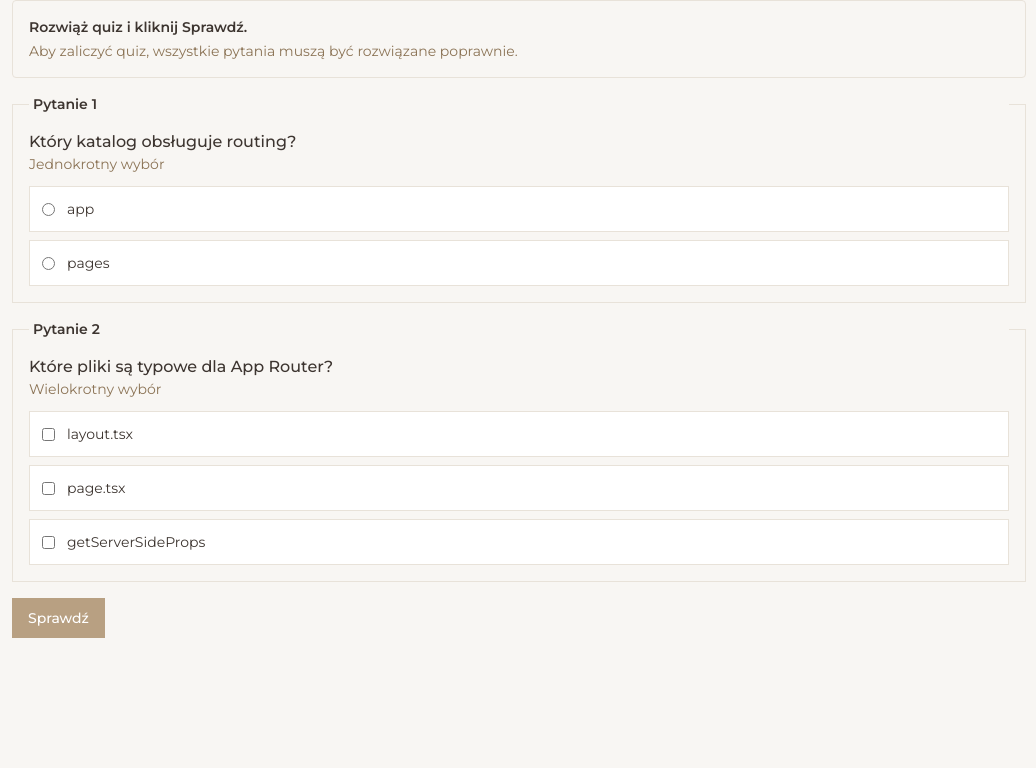
Test: QuizSection › marks quiz as passed after a correct attempt
Click the radio button labelled "app" at x=48, y=209, box left=42, top=202, right=55, bottom=216
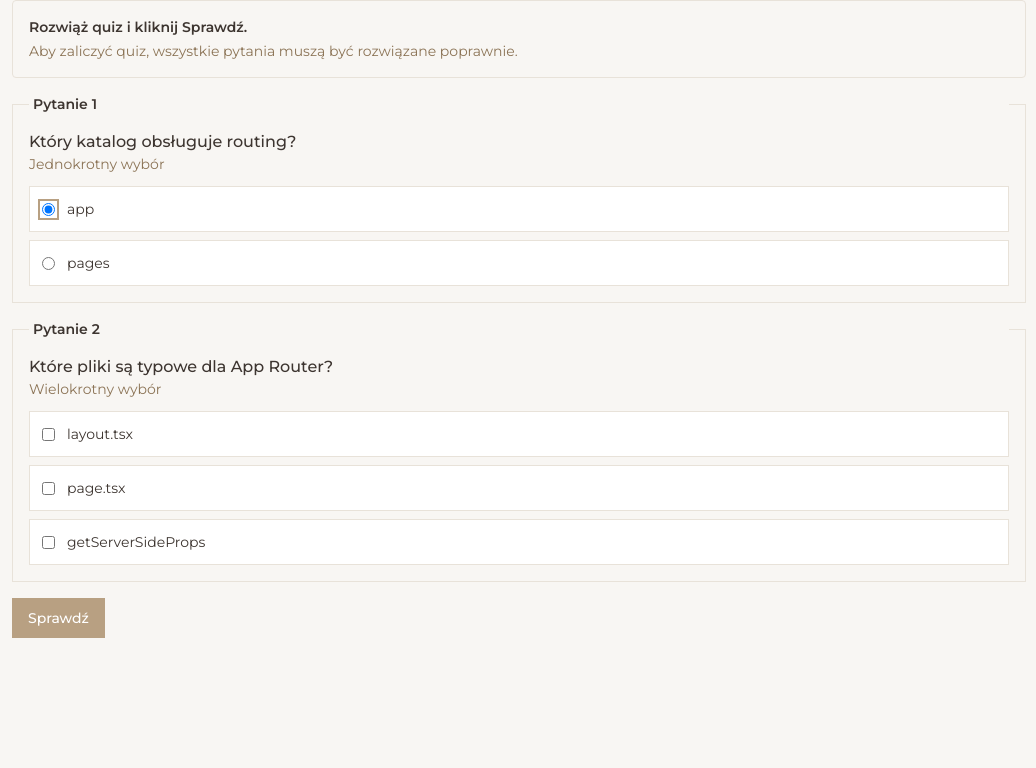
Click the checkbox labelled "layout.tsx" at x=48, y=434, box left=42, top=428, right=55, bottom=440
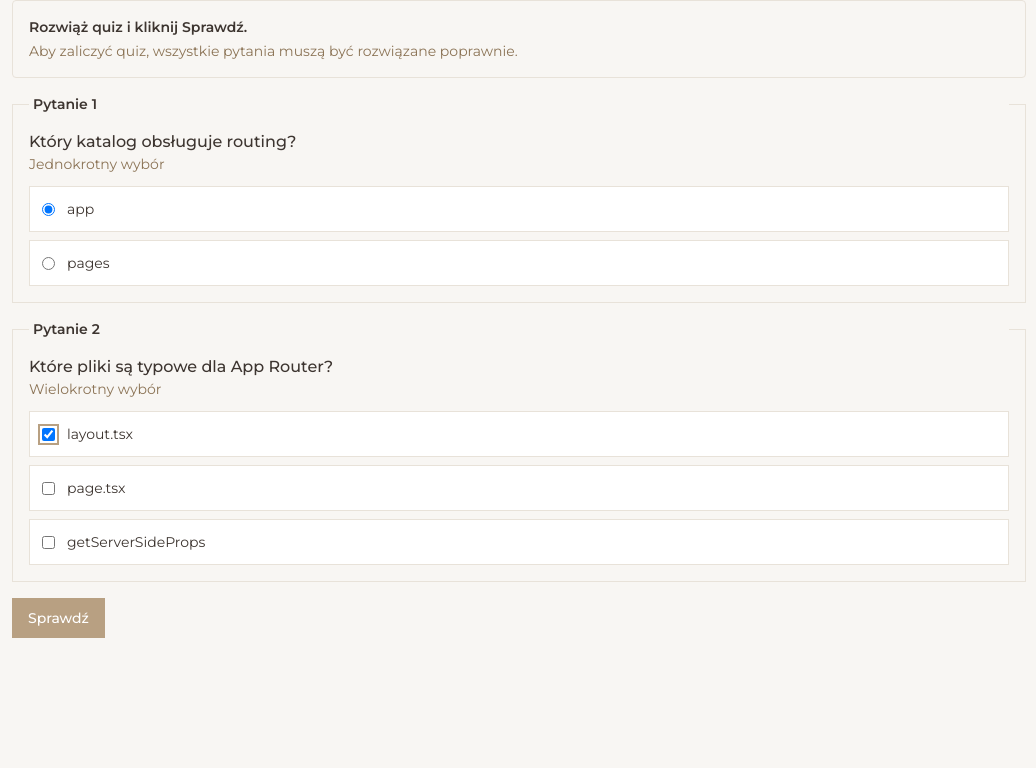
Click the checkbox labelled "page.tsx" at x=48, y=488, box left=42, top=482, right=55, bottom=494
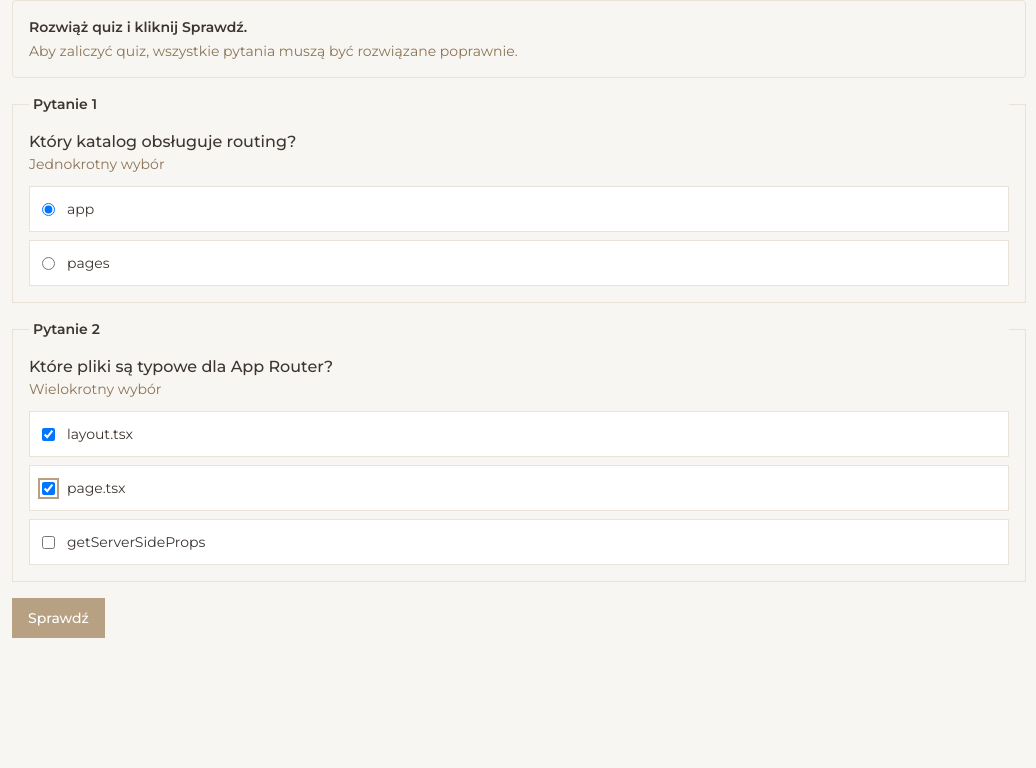
Click the button "Sprawdź" at x=58, y=618, box left=12, top=598, right=105, bottom=638
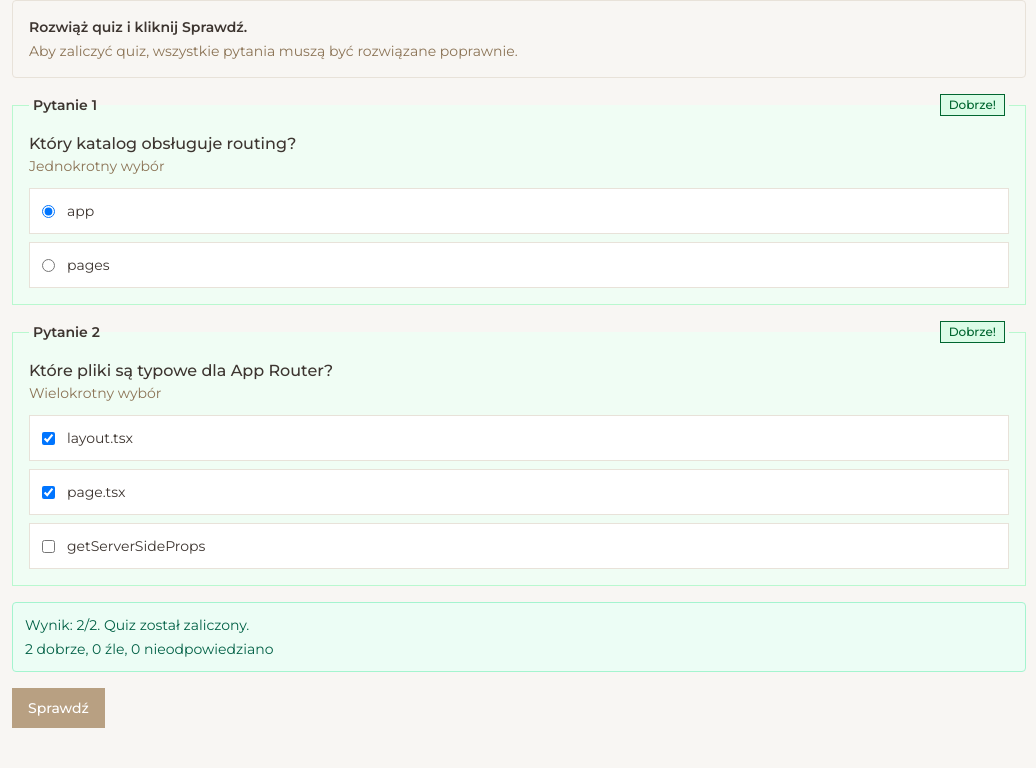
Result: the message shows "Quiz został zaliczony." at left=25, top=616, right=249, bottom=634
